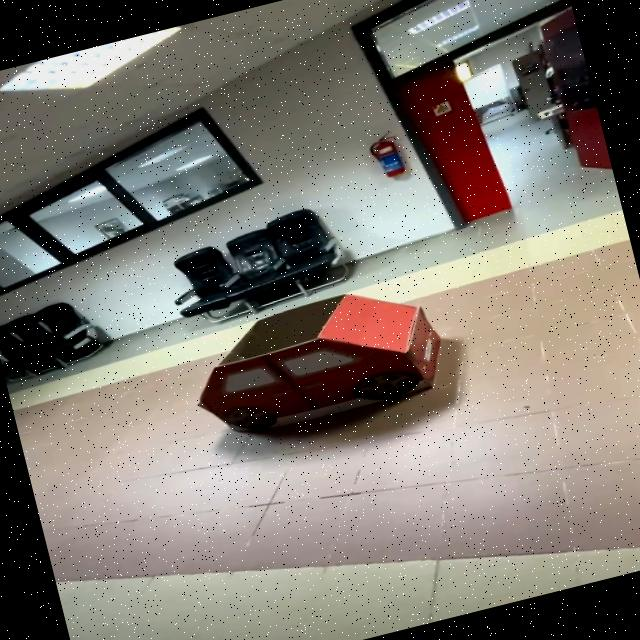red_car: (158, 255, 473, 461)
